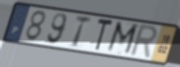8: (24, 9, 48, 42)
9: (46, 13, 68, 46)
M: (104, 20, 141, 58)
R: (128, 23, 160, 61)
T: (93, 17, 115, 53), (71, 15, 93, 50)
